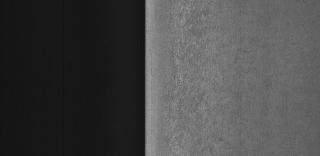silk spot: (166, 10, 228, 148)
